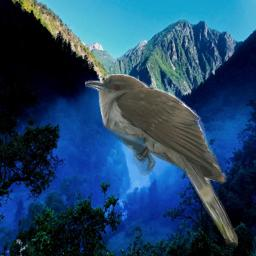Cuckoo: (85, 74, 238, 249)
